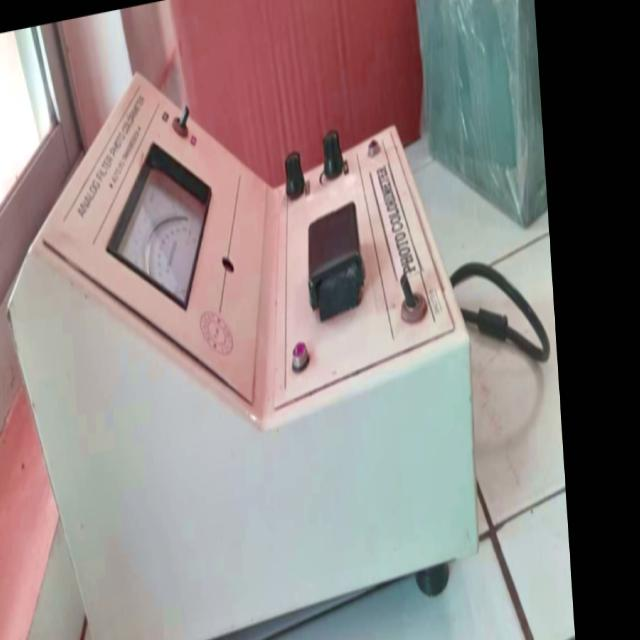Photocolorimeter: (4, 3, 486, 640)
